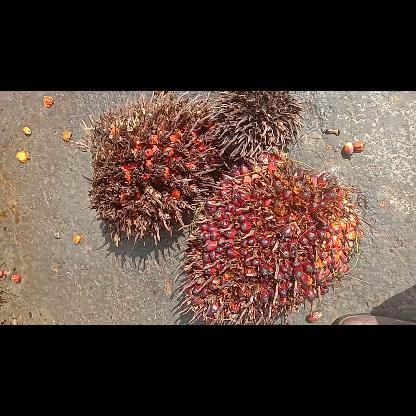Janjang kosong: (210, 90, 304, 160)
TBS masak: (171, 152, 367, 324)
Terlalu masak: (76, 90, 224, 246)
